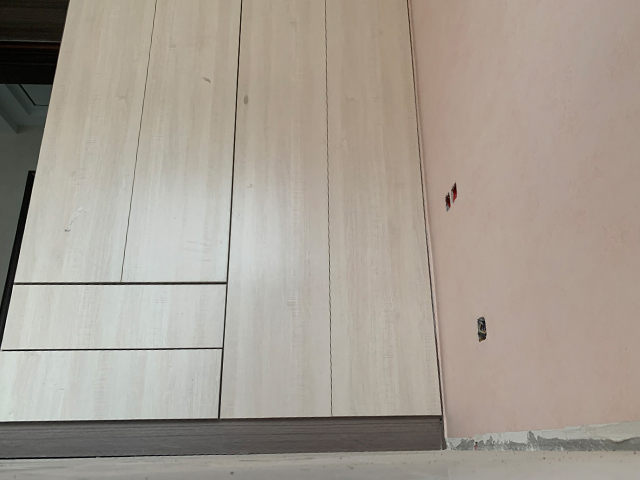cabinet: (1, 1, 448, 459)
